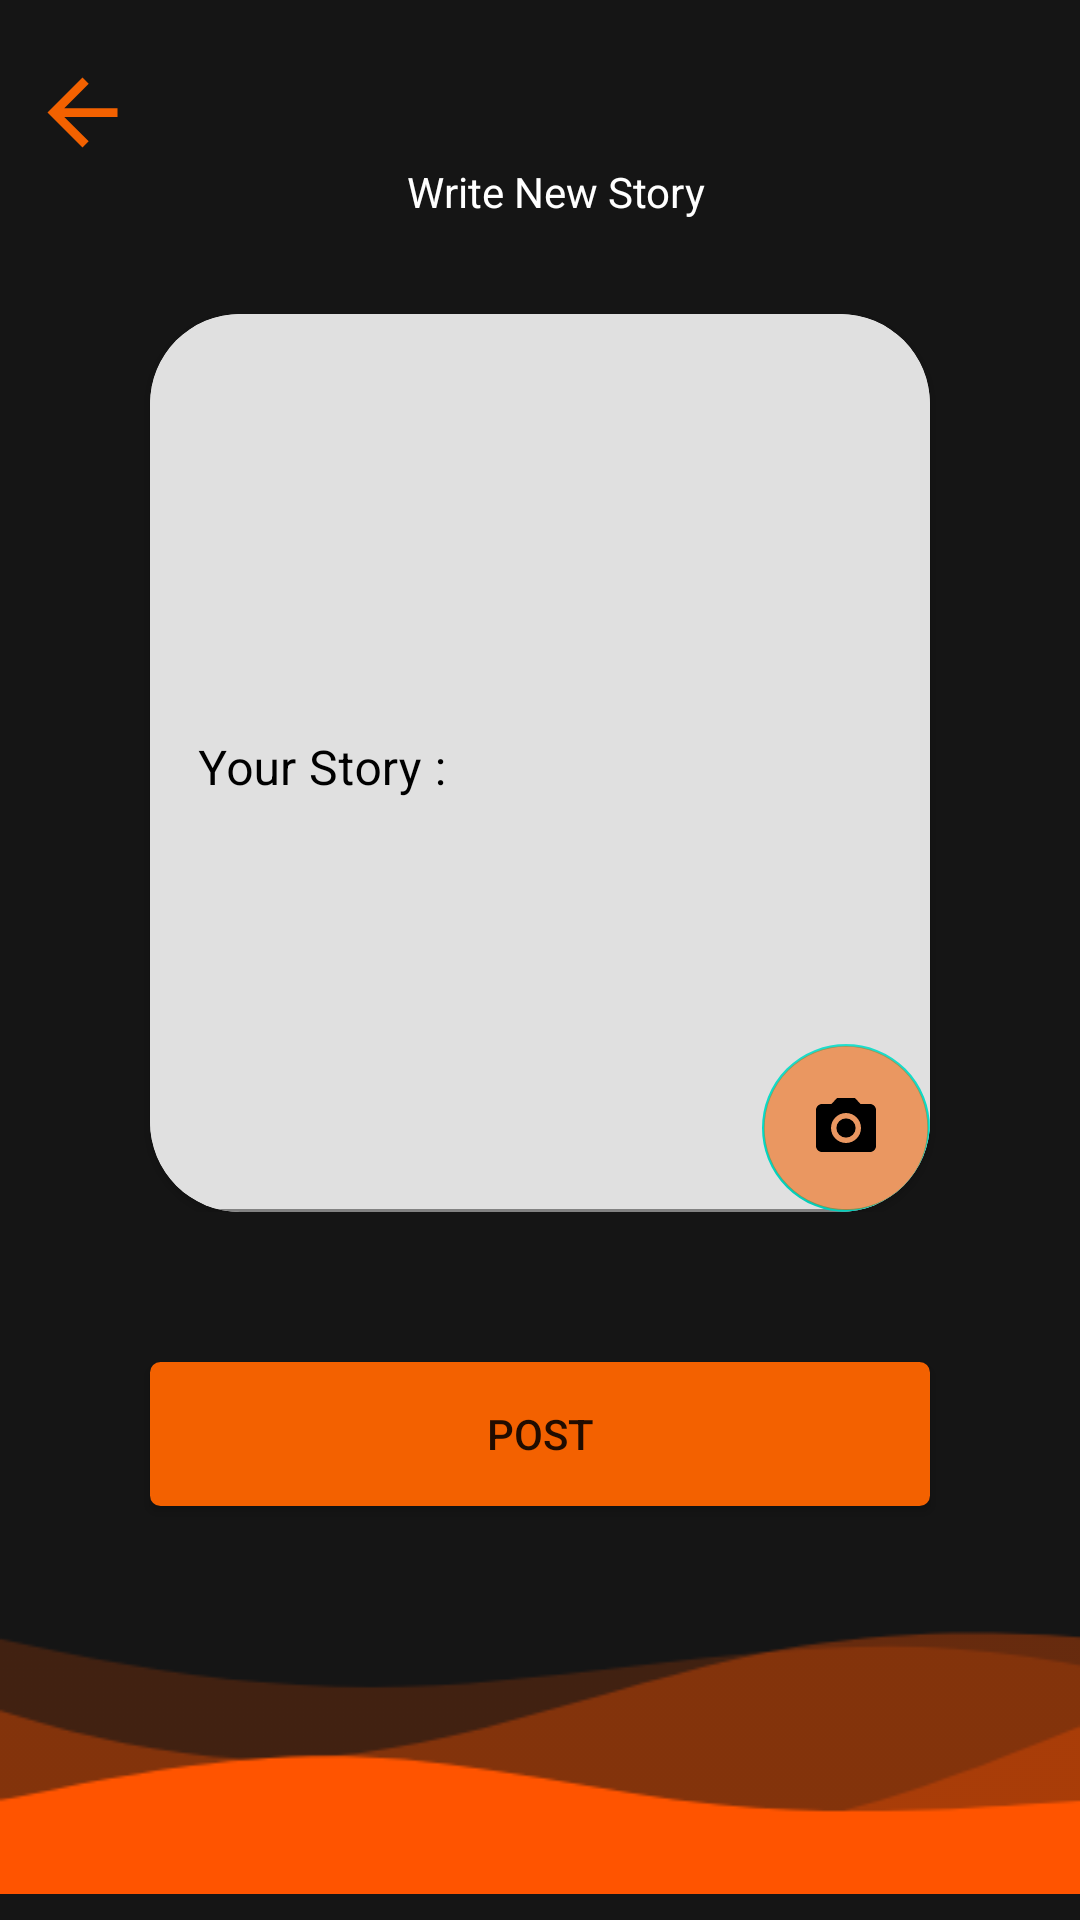

Icon click points for this 1080 x 1920 phone screenshot, format [x,y]:
arrow back: [82,112]
cam: [846,1128]
